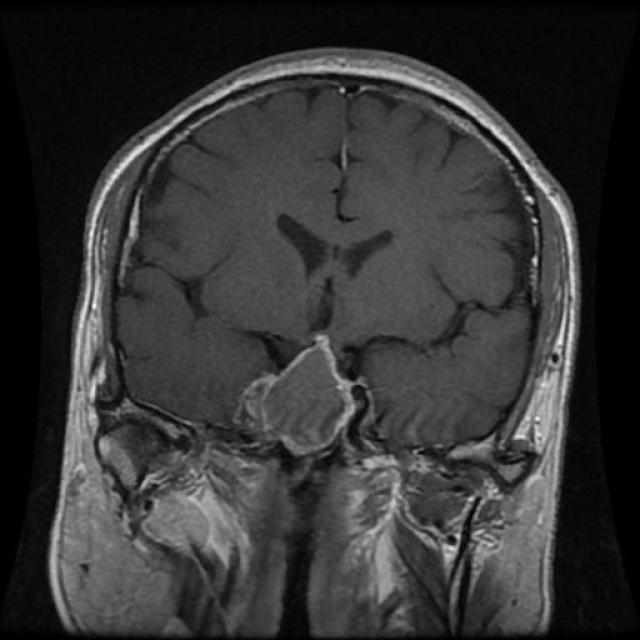pituitary: (246, 332, 367, 458)
